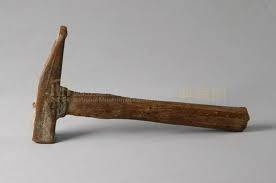hammer: (28, 24, 252, 146)
